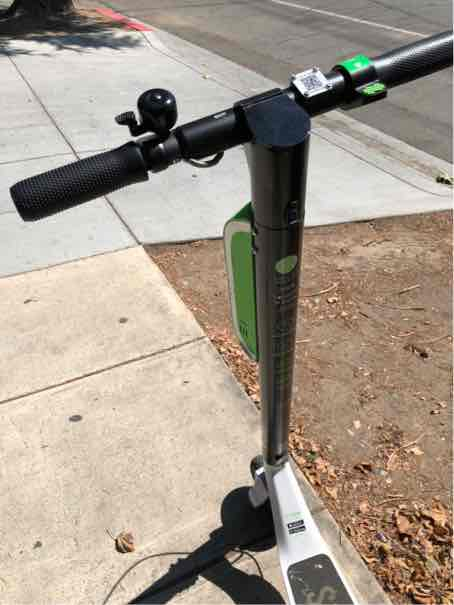scooter: (10, 54, 436, 605)
